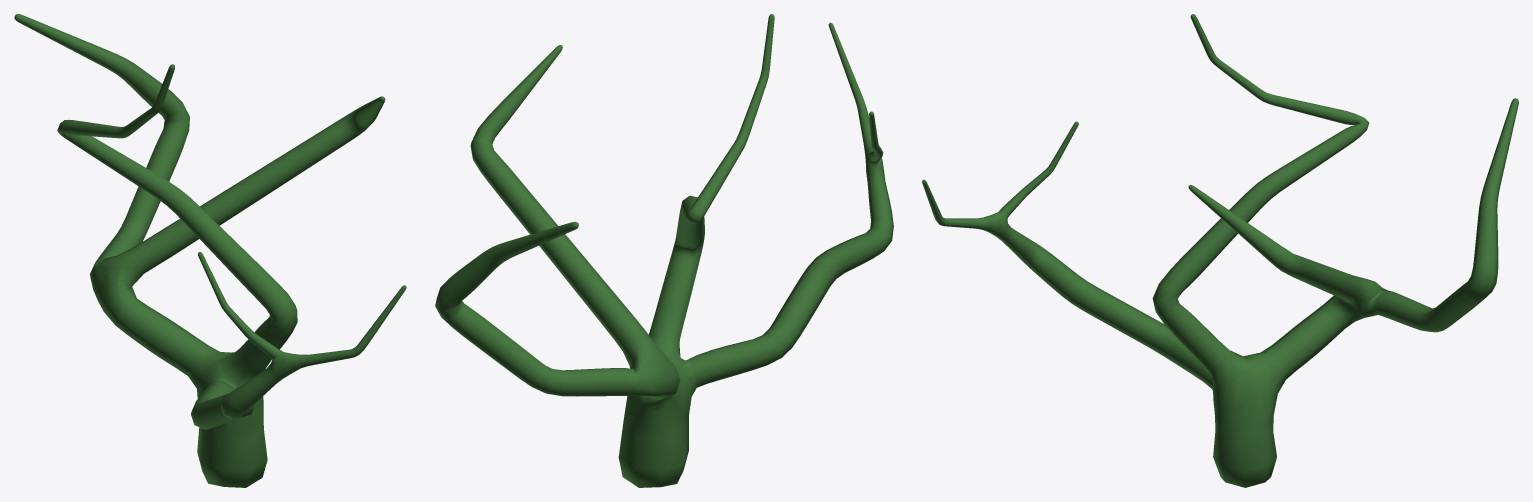
Rendered from koraalgroen.fbx.
3 views of the same model, side by side, from view 1: azimuth 30°, elevation 25°; view 2: azimuth 150°, elevation 25°; view 3: azimuth 270°, elevation 25° (orthographic). The views are drawn at different scales.
Visible parts, largest first — view 1: Vert; view 2: Vert; view 3: Vert.
Boxes of the visible parts, <box> form: Vert: <box>14,14,406,487</box>; Vert: <box>435,14,893,487</box>; Vert: <box>922,14,1518,487</box>.
Bounding box in the file's own units: 7314 × 11471 × 14436.
